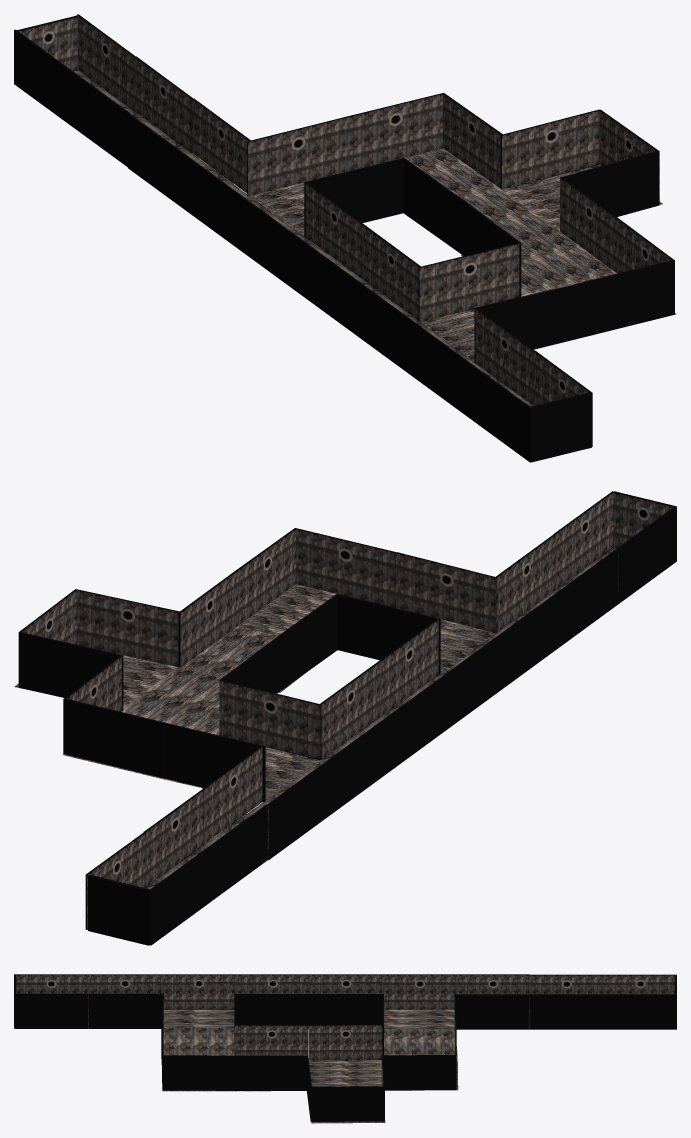
Rendered from shipwreckscene5.fbx.
The picture shows the model from 3 angles, top to bottom: view 1: azimuth 30°, elevation 25°; view 2: azimuth 150°, elevation 25°; view 3: azimuth 270°, elevation 25°; orthographic projection. The views are drawn at different scales.
Parts seen in each view (by area): view 1: polySurface1152; view 2: polySurface1152; view 3: polySurface1152.
Boxes of the visible parts, x1,y1,x2,y2 form: polySurface1152: [14, 14, 676, 462]; polySurface1152: [14, 491, 676, 945]; polySurface1152: [14, 974, 676, 1123].
Bounding box in the file's own units: 147 × 21.12 × 360.
Materials: 7 (7 with a texture image).
